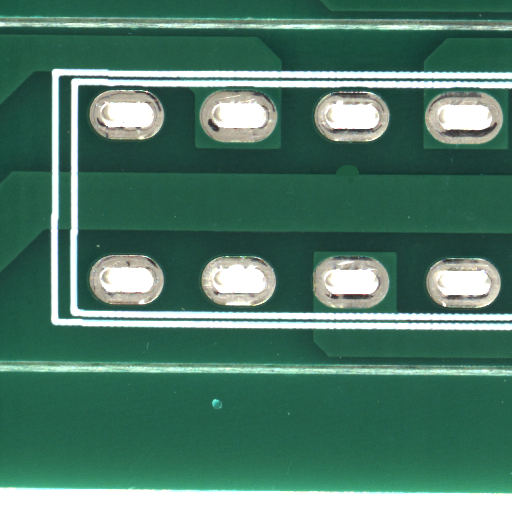Spur: (346, 170, 370, 182)
